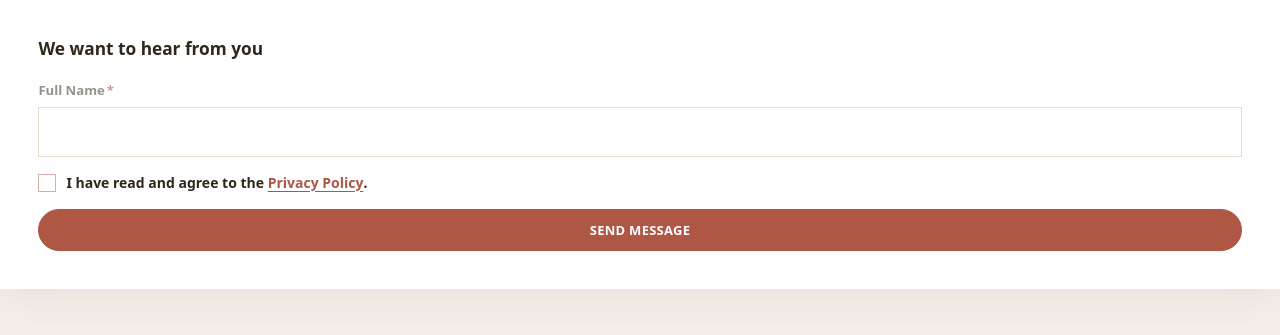
Test: ContactForm — privacy consent is ALWAYS mandatory, the Sanity shown/required toggle can no longer waive it › privacyConsent.required=false: submitting without checking it is STILL blocked
In the field labelled "Full Name*": (640, 132) top-left (38, 107), bottom-right (1242, 156), type "Jane"
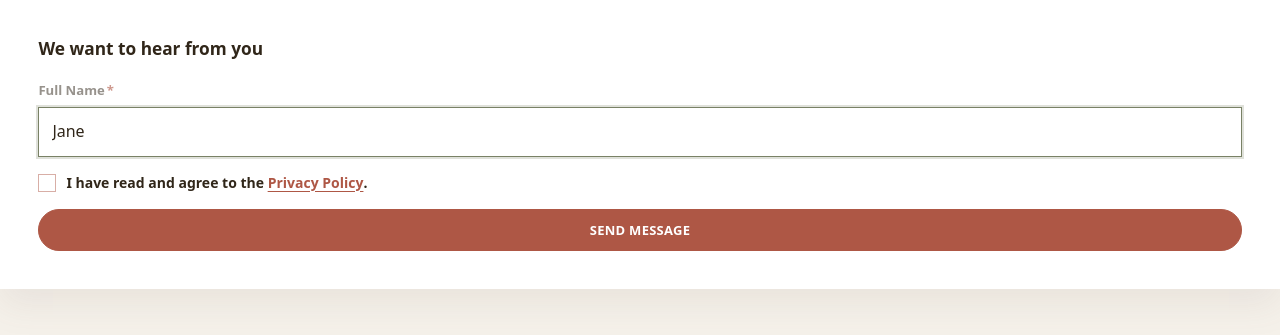
Click the button "Send message": (640, 230) top-left (38, 209), bottom-right (1242, 251)
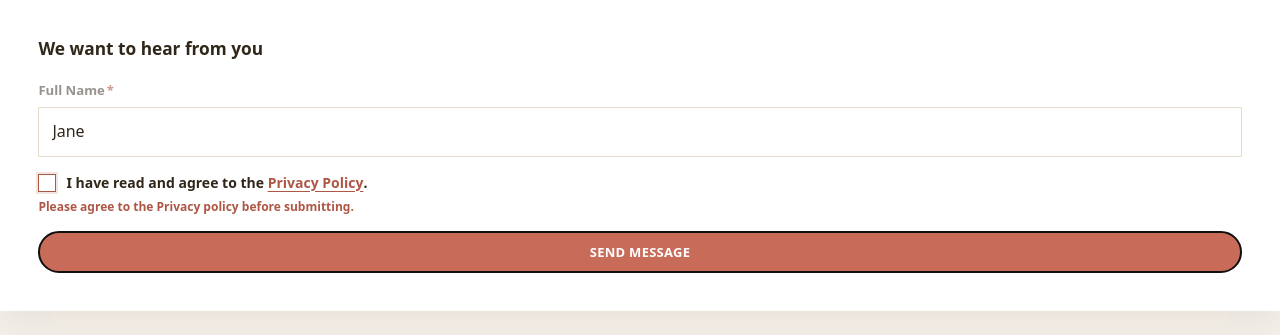
Check: the text "Please agree to the Privacy policy before submitting." is shown, box top-left (38, 198), bottom-right (354, 215)
